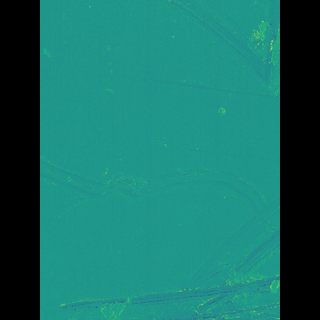Loch: (82, 189, 251, 320), (69, 154, 243, 221), (160, 0, 250, 92), (116, 70, 248, 101)
